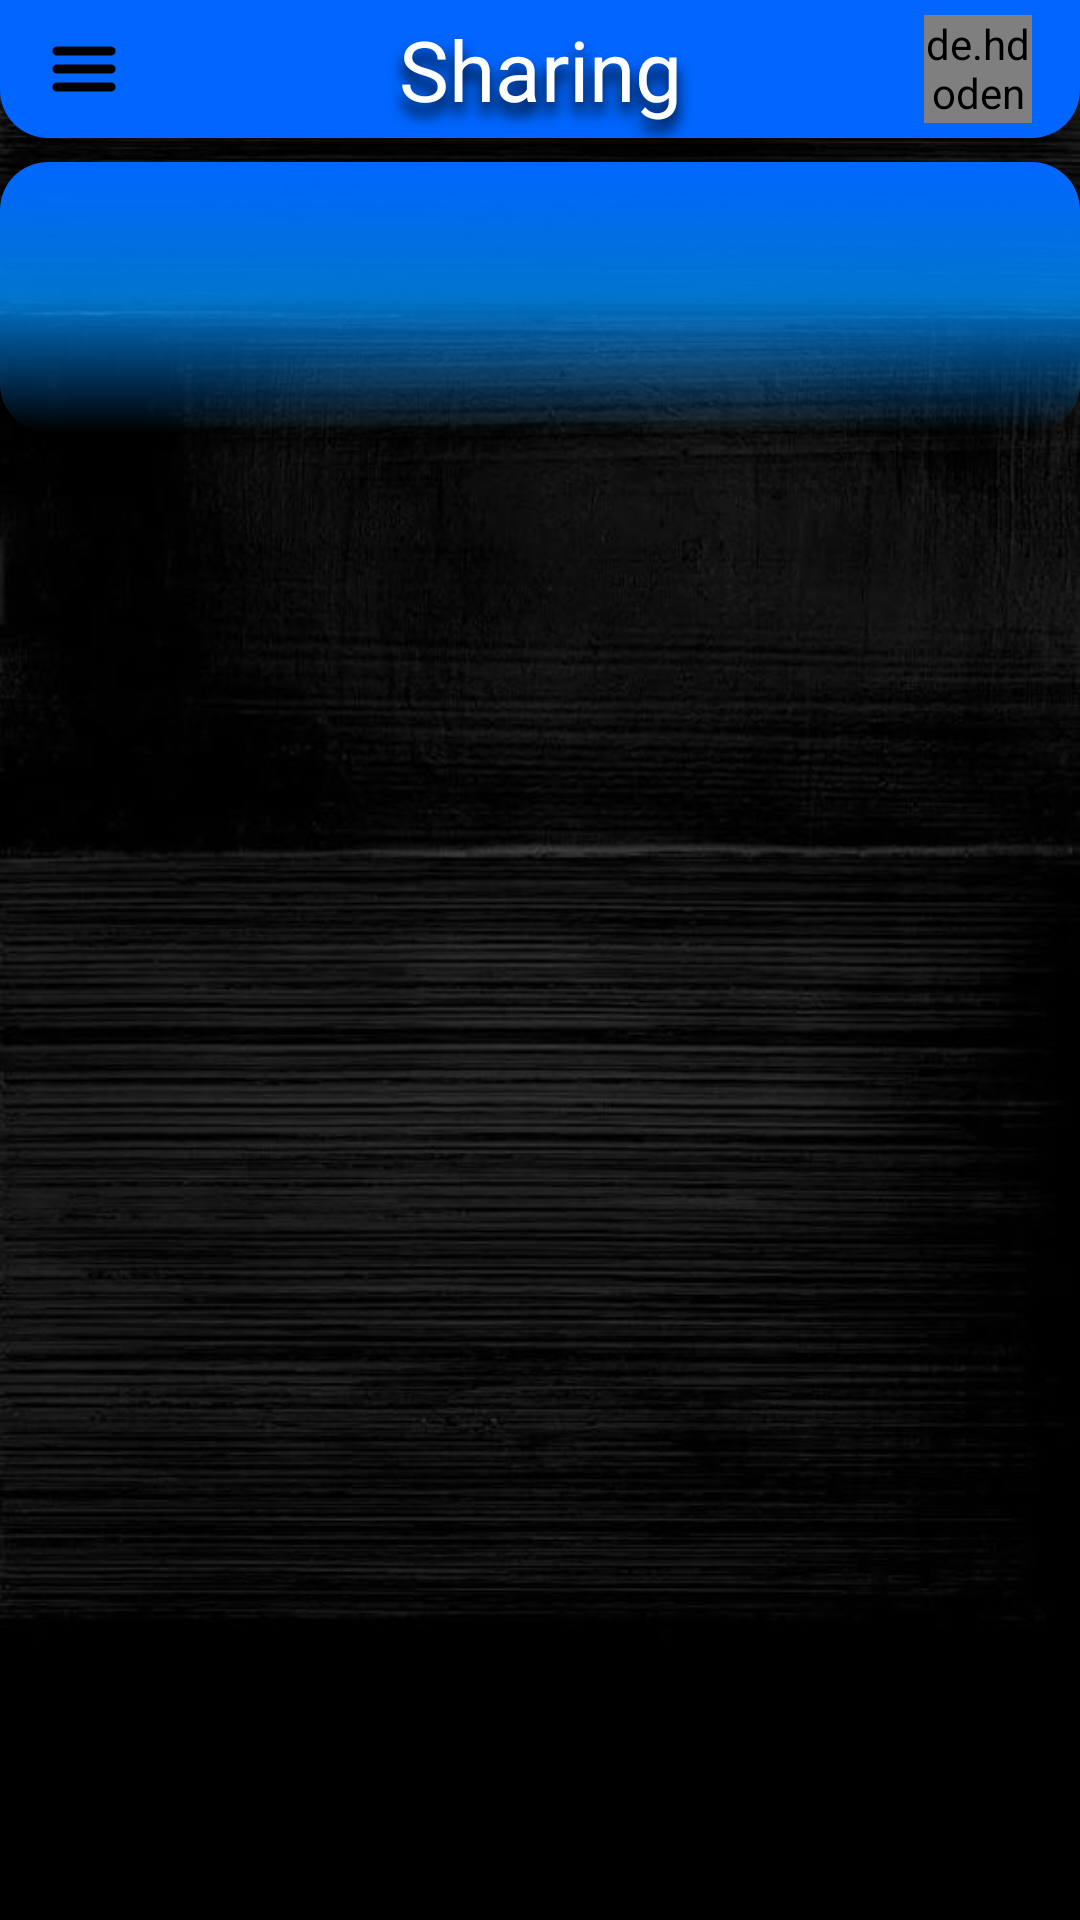

Locate icon controls on the screen. Image size 1080 × 1920, boxes as (x1, y1, x2, y2).
Menu: (52, 46, 116, 92)
